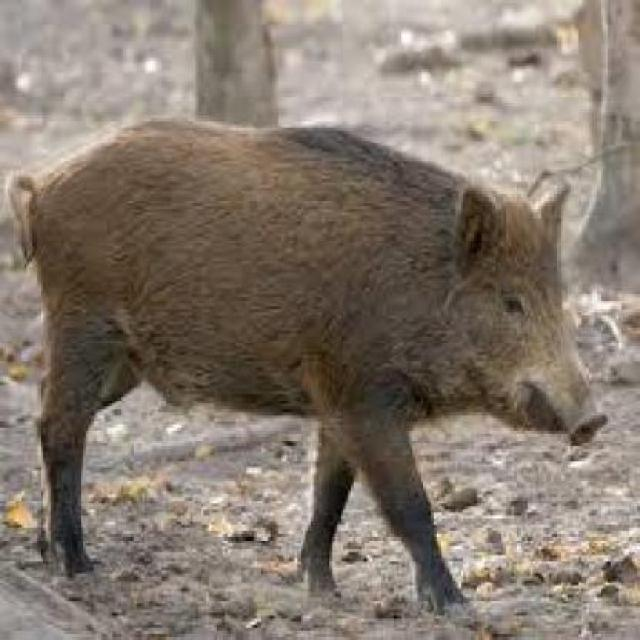wildboar: (0, 108, 614, 628)
